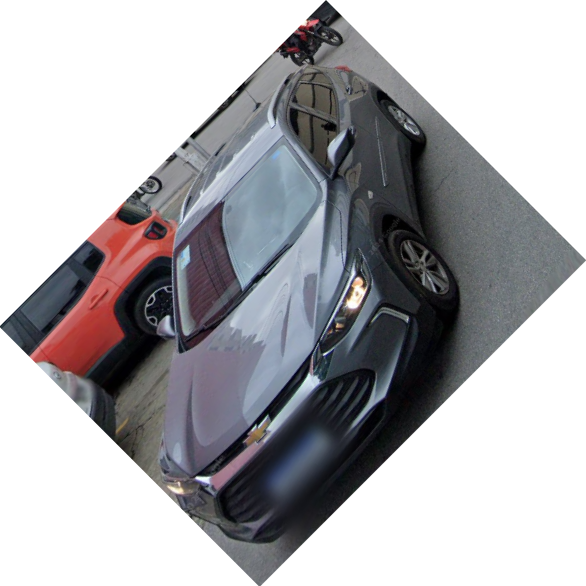car: (158, 63, 463, 551)
